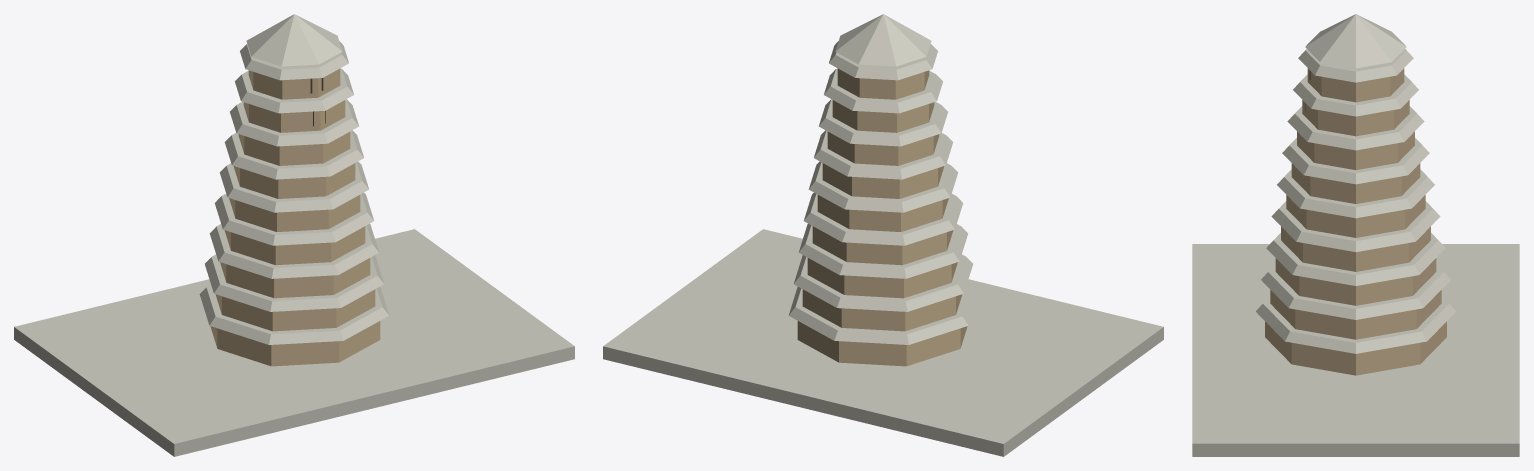
Rendered from yanan.glb.
3 views of the same model, side by side, from view 1: azimuth 30°, elevation 25°; view 2: azimuth 150°, elevation 25°; view 3: azimuth 270°, elevation 25° (orthographic). The views are drawn at different scales.
Parts seen in each view (by area): view 1: stone plinth, octagonal brick storey, pointed crown, brick eave, brick eave.001, octagonal brick storey.001, brick eave.002, octagonal brick storey.002, brick eave.003, octagonal brick storey.003, brick eave.004, octagonal brick storey.004 (+8 smaller); view 2: stone plinth, octagonal brick storey, pointed crown, brick eave, brick eave.001, octagonal brick storey.001, brick eave.002, octagonal brick storey.002, brick eave.003, octagonal brick storey.003, brick eave.004, octagonal brick storey.004 (+8 smaller); view 3: stone plinth, octagonal brick storey, pointed crown, brick eave, octagonal brick storey.001, brick eave.001, octagonal brick storey.002, brick eave.002, octagonal brick storey.003, brick eave.003, octagonal brick storey.004, brick eave.004 (+8 smaller).
Part boxes in pixels (x1=…): stone plinth: x1=14, y1=229, x2=574, y2=456; octagonal brick storey: x1=210, y1=321, x2=380, y2=366; pointed crown: x1=246, y1=14, x2=342, y2=66; brick eave: x1=199, y1=285, x2=389, y2=344; brick eave.001: x1=205, y1=254, x2=383, y2=311; octagonal brick storey.001: x1=215, y1=289, x2=375, y2=331; brick eave.002: x1=209, y1=223, x2=379, y2=278; octagonal brick storey.002: x1=220, y1=258, x2=370, y2=298; brick eave.003: x1=214, y1=192, x2=373, y2=245; octagonal brick storey.003: x1=224, y1=226, x2=365, y2=265; brick eave.004: x1=219, y1=161, x2=369, y2=212; octagonal brick storey.004: x1=229, y1=195, x2=360, y2=231; stone plinth: x1=603, y1=229, x2=1163, y2=456; octagonal brick storey: x1=797, y1=321, x2=967, y2=366; pointed crown: x1=835, y1=14, x2=931, y2=66; brick eave: x1=788, y1=285, x2=978, y2=344; brick eave.001: x1=794, y1=254, x2=972, y2=311; octagonal brick storey.001: x1=802, y1=289, x2=962, y2=331; brick eave.002: x1=798, y1=223, x2=968, y2=278; octagonal brick storey.002: x1=807, y1=258, x2=957, y2=298; brick eave.003: x1=804, y1=192, x2=963, y2=245; octagonal brick storey.003: x1=812, y1=226, x2=953, y2=265; brick eave.004: x1=808, y1=161, x2=958, y2=212; octagonal brick storey.004: x1=817, y1=195, x2=948, y2=231; stone plinth: x1=1192, y1=244, x2=1519, y2=456; octagonal brick storey: x1=1265, y1=321, x2=1446, y2=375; pointed crown: x1=1305, y1=14, x2=1406, y2=68; brick eave: x1=1256, y1=296, x2=1455, y2=353; octagonal brick storey.001: x1=1270, y1=290, x2=1441, y2=339; brick eave.001: x1=1261, y1=264, x2=1450, y2=319; octagonal brick storey.002: x1=1275, y1=258, x2=1436, y2=305; brick eave.002: x1=1266, y1=233, x2=1445, y2=285; octagonal brick storey.003: x1=1281, y1=226, x2=1430, y2=271; brick eave.003: x1=1271, y1=201, x2=1440, y2=251; octagonal brick storey.004: x1=1286, y1=195, x2=1425, y2=237; brick eave.004: x1=1277, y1=169, x2=1434, y2=218.
Size of the model in its own units: 6.5 by 5.2 by 4.5.
